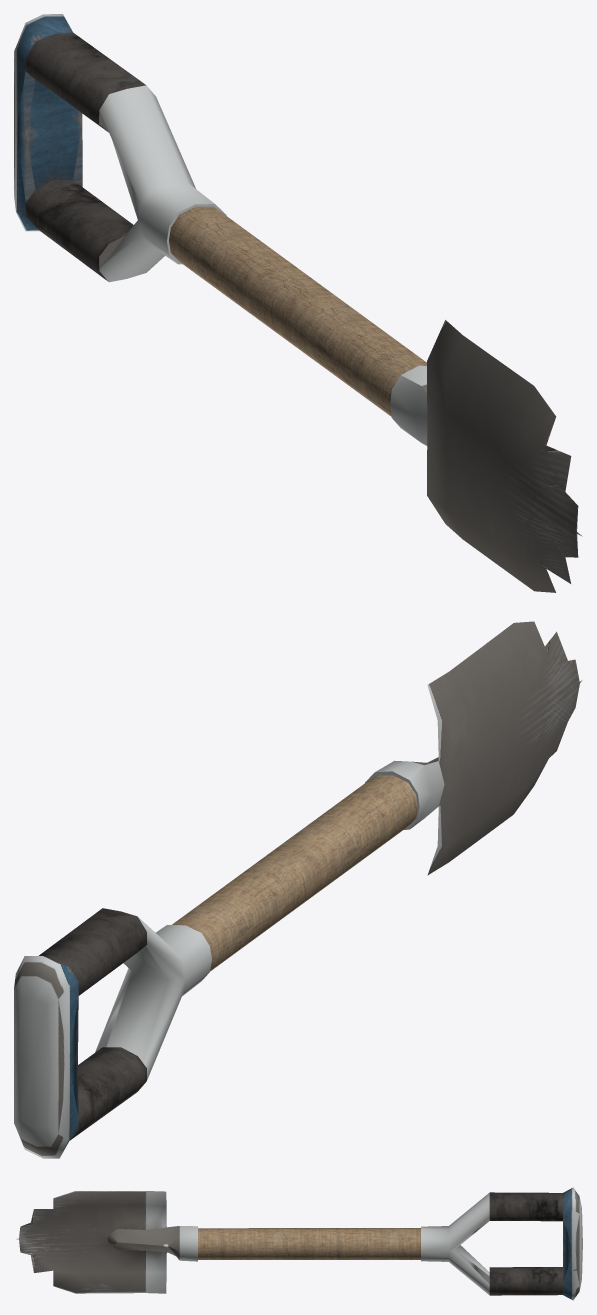
File: Shovel New.fbx
3 views of the same model, one above another, from view 1: azimuth 30°, elevation 25°; view 2: azimuth 150°, elevation 25°; view 3: azimuth 270°, elevation 25° (orthographic). The views are drawn at different scales.
Visible parts, largest first — view 1: Object297; view 2: Object297; view 3: Object297.
Part boxes in pixels (x1,y1,x2,y2): Object297: [14, 14, 582, 592]; Object297: [14, 621, 582, 1158]; Object297: [16, 1187, 582, 1300].
Bounding box in the file's own units: 4.17 × 14.06 × 66.81.
Materials: 1 (1 with a texture image).
